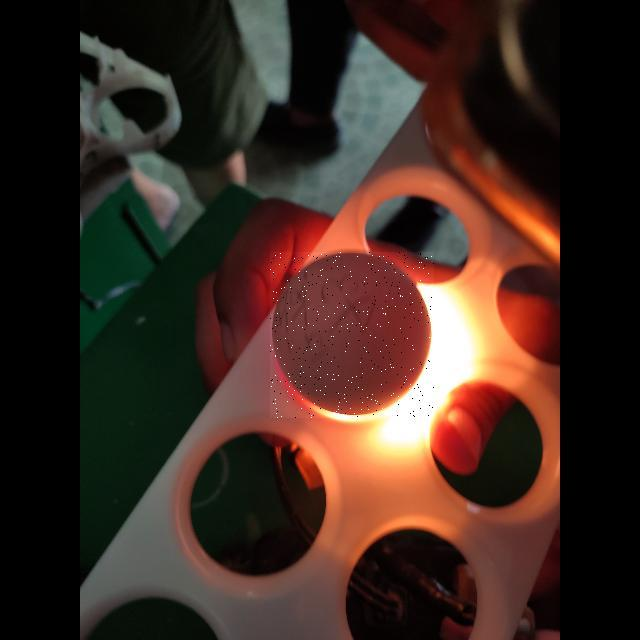Fertile: (270, 252, 434, 418)
